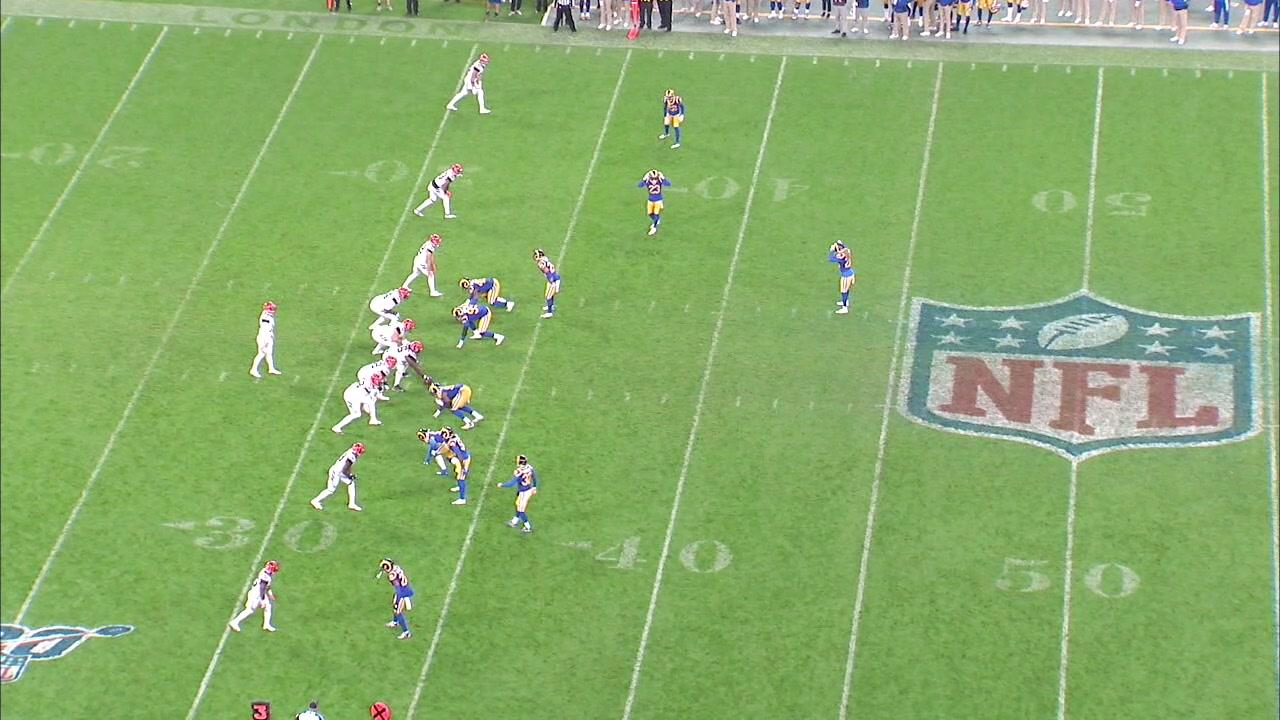player: (307, 440, 367, 514), (226, 559, 281, 637), (490, 452, 538, 536), (329, 372, 384, 437), (378, 557, 417, 643), (411, 161, 466, 221), (443, 51, 493, 115), (398, 232, 444, 299), (246, 298, 283, 380), (380, 338, 435, 393), (436, 425, 472, 509), (427, 381, 487, 431), (449, 304, 506, 351), (356, 354, 398, 417), (635, 167, 671, 238), (457, 276, 517, 314), (532, 247, 563, 320), (827, 239, 856, 315), (417, 425, 460, 476), (367, 286, 411, 333), (656, 87, 686, 150), (371, 317, 417, 357)
ref: (549, 0, 581, 37), (287, 698, 330, 720)
